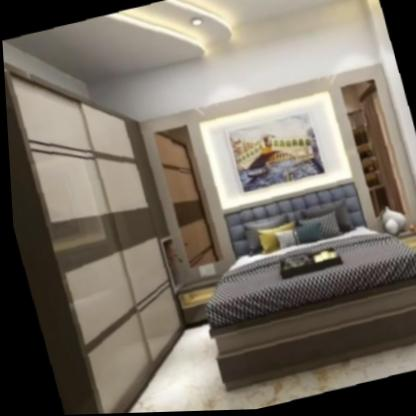Bed: (178, 168, 416, 383)
Closet: (2, 38, 202, 416)
Frame: (216, 105, 328, 199)
Gypsum Board: (2, 0, 382, 81)
